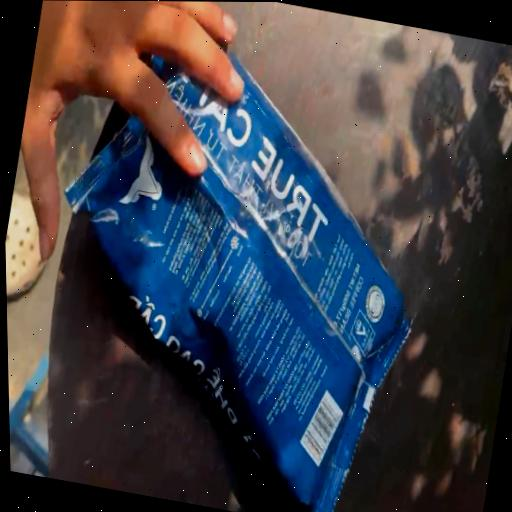cafe_hat: (65, 56, 408, 512)
